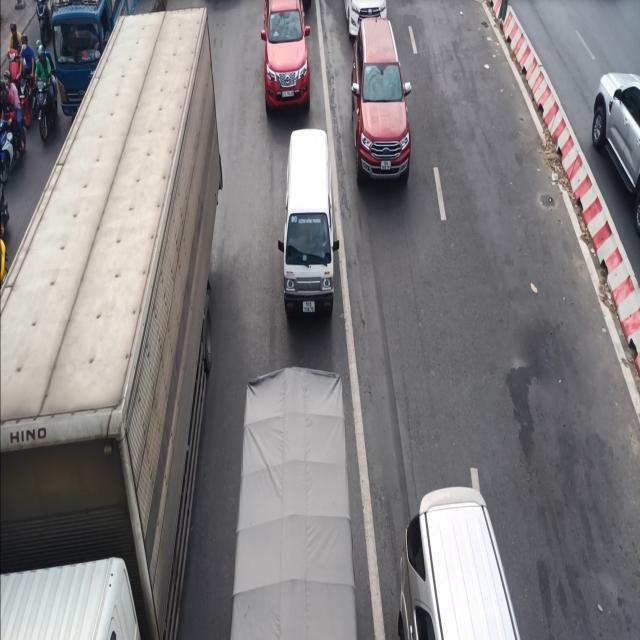car: (349, 20, 414, 184), (260, 0, 311, 117)
truck: (0, 20, 225, 640), (282, 122, 339, 328)
